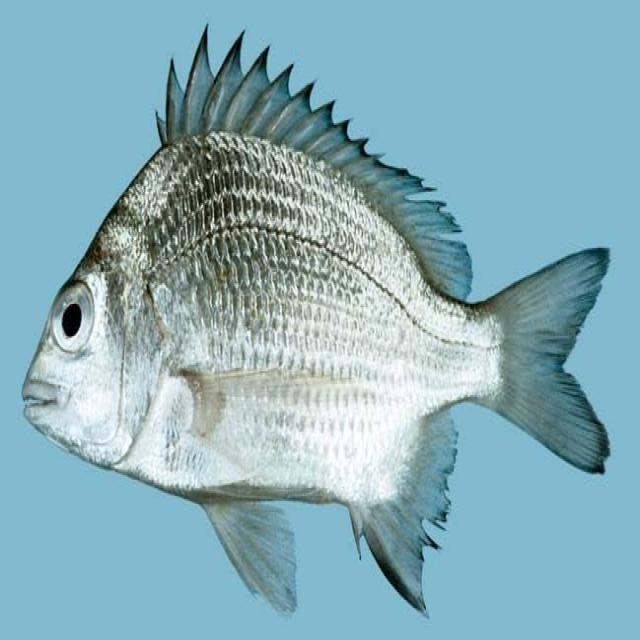ikan: (20, 21, 611, 619)
